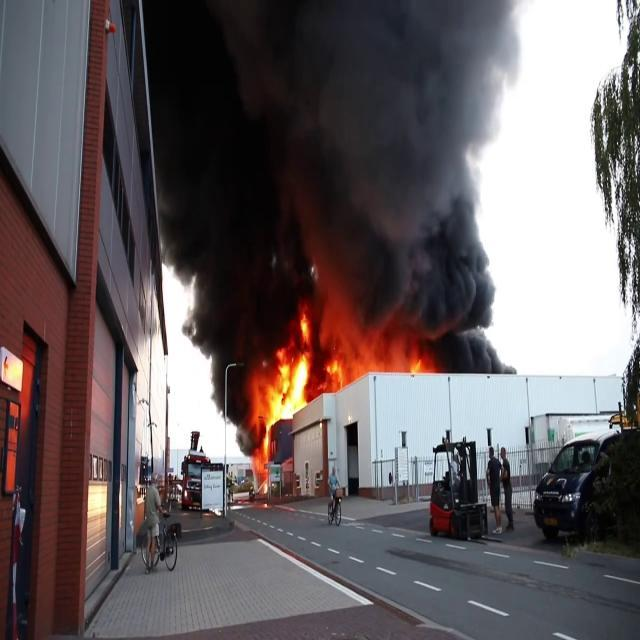Fire: (250, 317, 314, 460), (327, 319, 434, 382)
Smoke: (156, 1, 536, 352)
